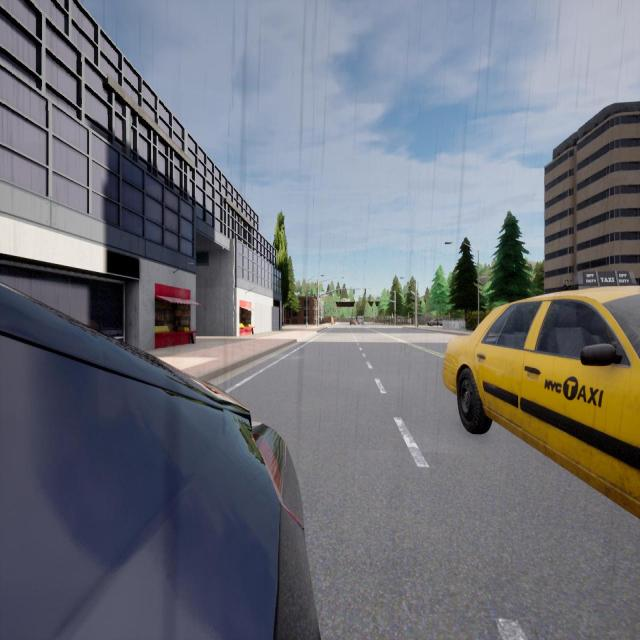Vehicle: (0, 288, 318, 640), (443, 286, 639, 517), (427, 319, 443, 326), (357, 315, 364, 325), (350, 317, 356, 326)
traffic_light: (340, 289, 341, 295), (394, 310, 396, 313), (365, 289, 366, 294), (360, 297, 361, 299), (368, 297, 369, 299), (378, 298, 379, 299), (354, 289, 354, 294)
